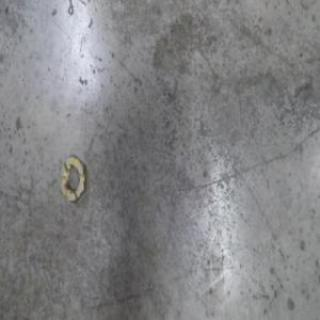Nuttrack_idkeyframe: (57, 153, 87, 204)
